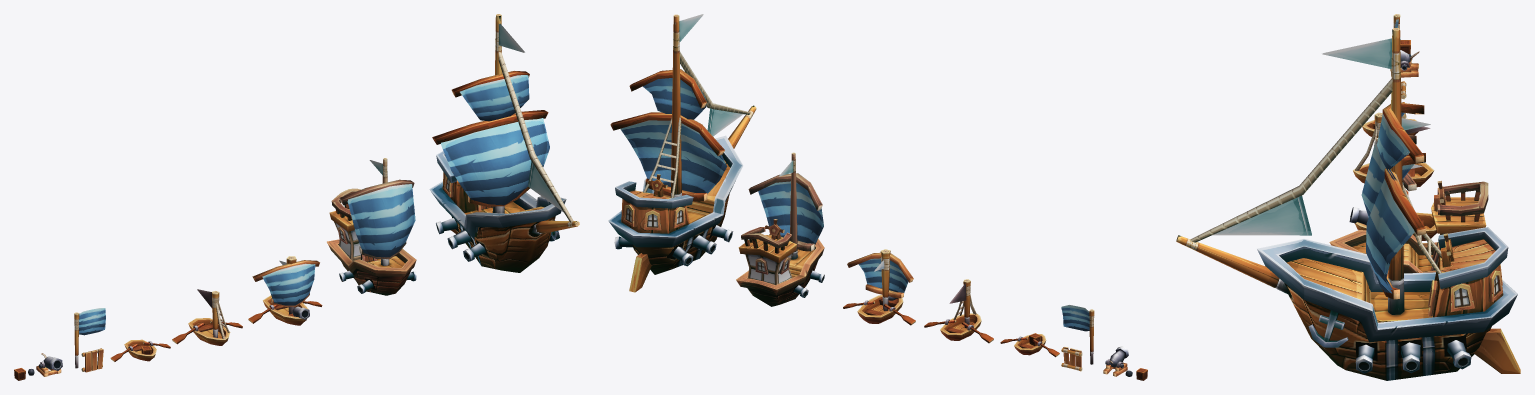
File: Pirat_Boats.fbx
3 renders of one model, left to right at view 1: azimuth 30°, elevation 25°; view 2: azimuth 150°, elevation 25°; view 3: azimuth 270°, elevation 25°, orthographic. The views are drawn at different scales.
Visible parts, largest first — view 1: pirate_boat_05, pirate_boat_04, pirate_boat_03, pirate_boat_02, pirat_flag, pirate_boat_01; view 2: pirate_boat_05, pirate_boat_04, pirate_boat_03, pirate_boat_02, pirat_flag, pirate_boat_01, pirat_cannon; view 3: pirate_boat_05, pirate_boat_04, pirate_boat_02, pirate_boat_03, pirat_cannon.
Boxes of the visible parts, box(x1,y1,x2,y2) form: pirate_boat_05: box(429, 14, 579, 272); pirate_boat_04: box(327, 158, 416, 295); pirate_boat_03: box(248, 256, 322, 325); pirate_boat_02: box(172, 289, 242, 345); pirat_flag: box(74, 308, 105, 368); pirate_boat_01: box(110, 339, 170, 361); pirate_boat_05: box(608, 14, 756, 292); pirate_boat_04: box(736, 152, 824, 306); pirate_boat_03: box(843, 249, 915, 325); pirate_boat_02: box(924, 279, 993, 343); pirat_flag: box(1061, 305, 1094, 364); pirate_boat_01: box(1000, 333, 1059, 357); pirat_cannon: box(1103, 346, 1128, 376); pirate_boat_05: box(1176, 28, 1520, 380); pirate_boat_04: box(1329, 118, 1488, 273); pirate_boat_02: box(1353, 112, 1434, 194); pirate_boat_03: box(1349, 164, 1437, 240); pirat_cannon: box(1390, 50, 1419, 77).
Size of the model in its own units: 40.37 by 18.53 by 16.19.
